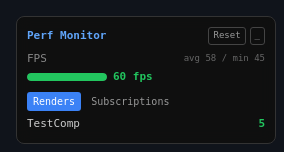
Test: DevPerfOverlay › collapses to FPS bar when _ is clicked
This screenshot has width=284, height=152.
Click the button "_": x=257, y=36 [250, 27, 265, 44]
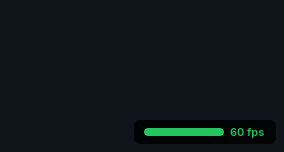
Expected: the text "Perf Monitor" is gone
